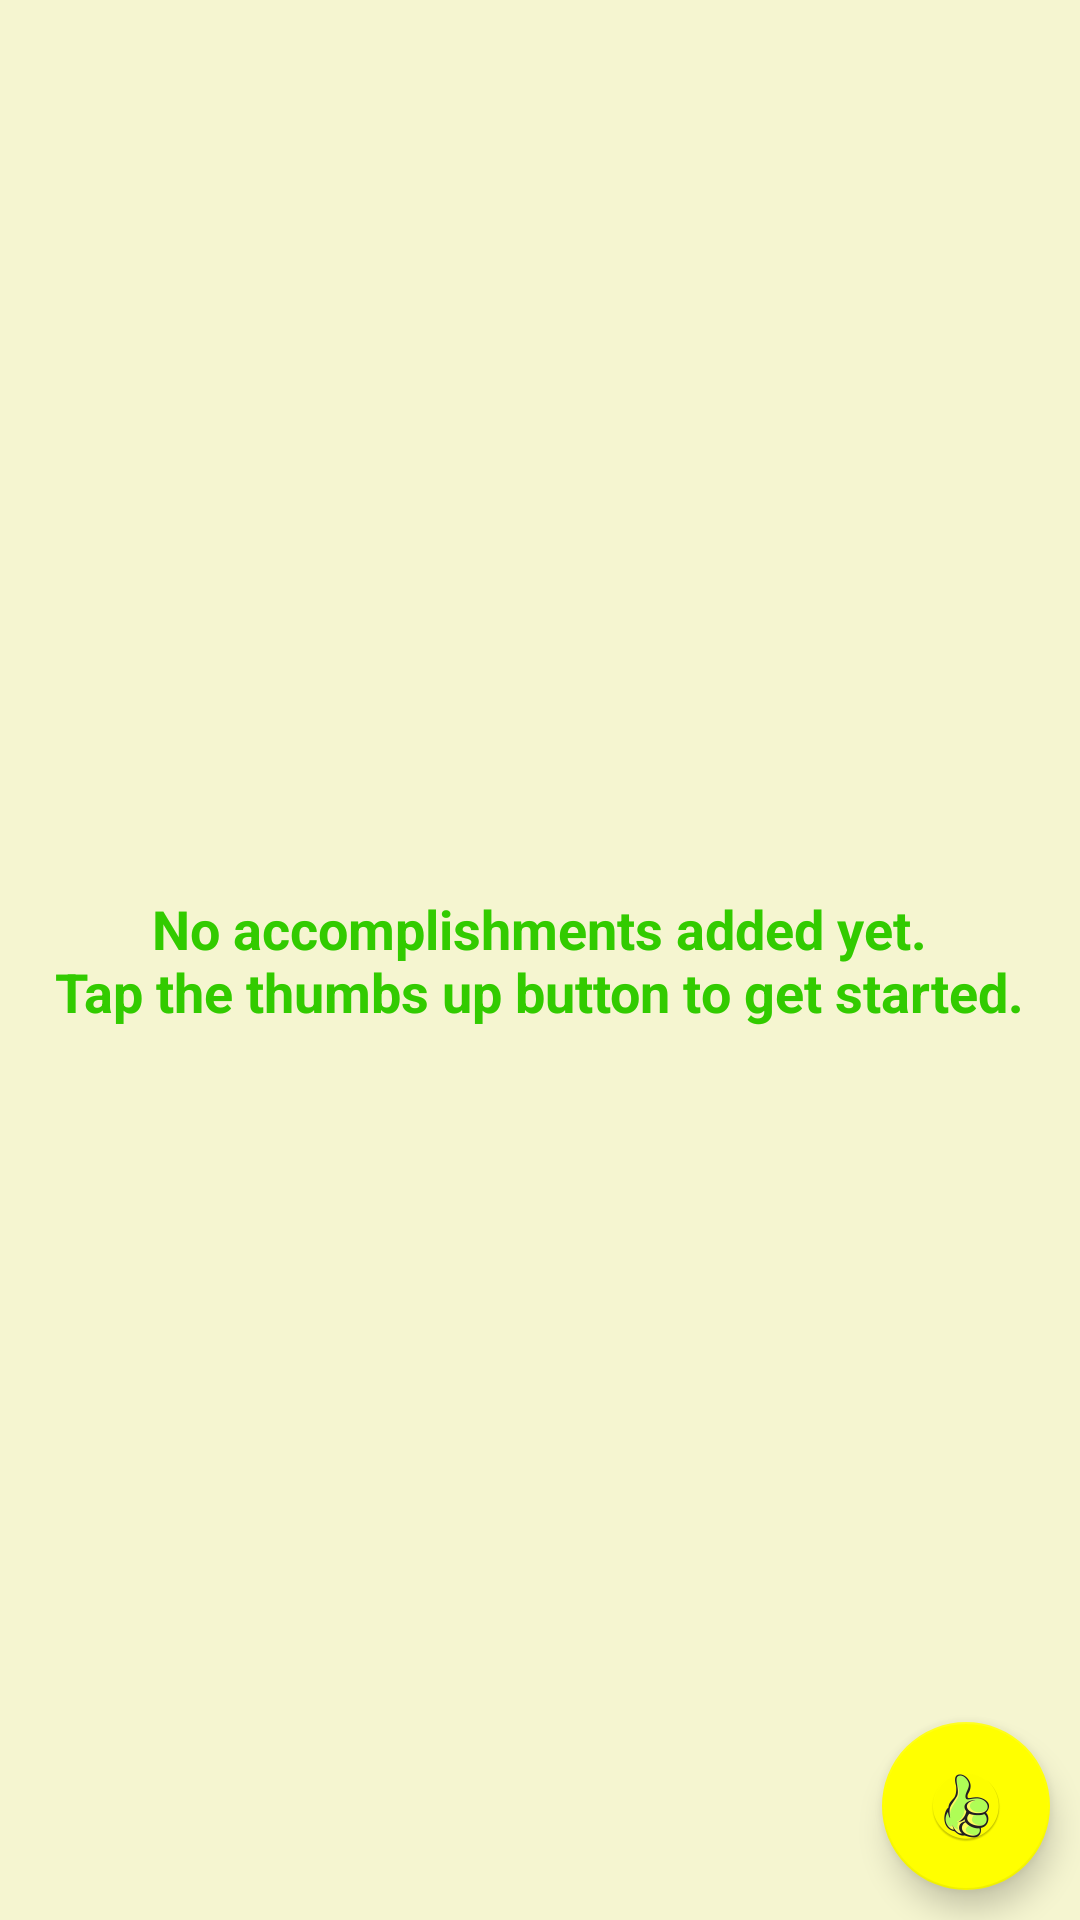

Screen size 1080*1920. Icon name, then its center in pixels as [x,y]:
fab: [966,1806]
